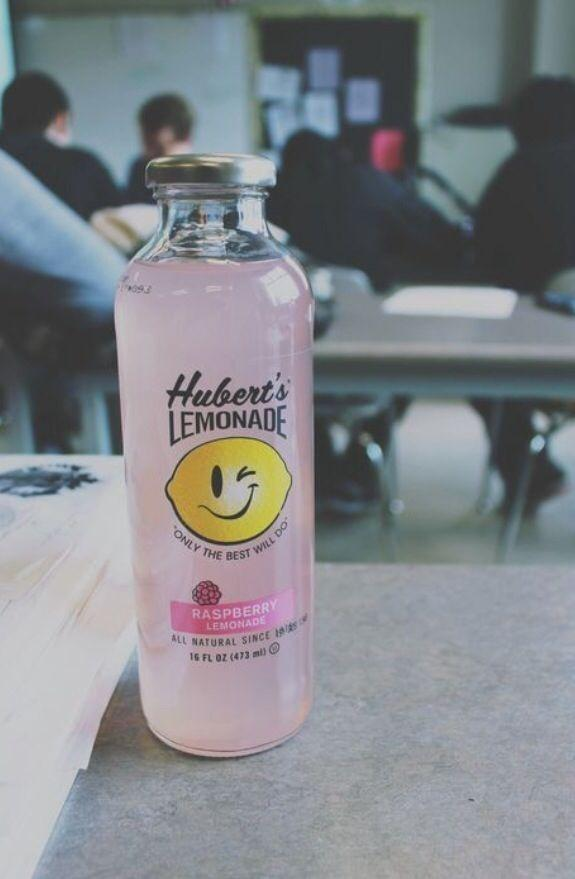bottle-glass: (112, 150, 317, 762)
